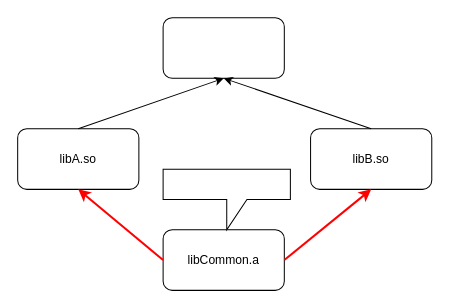
The diagram is 449 pixels wide and 308 high, and some of its shapes have lost their labels. The centre of each missing label's shape, as x and y in pixels:
"全局符号kProblemSymbol" goes at pixel 226 199.
"可执行程序C" goes at pixel 223 47.
